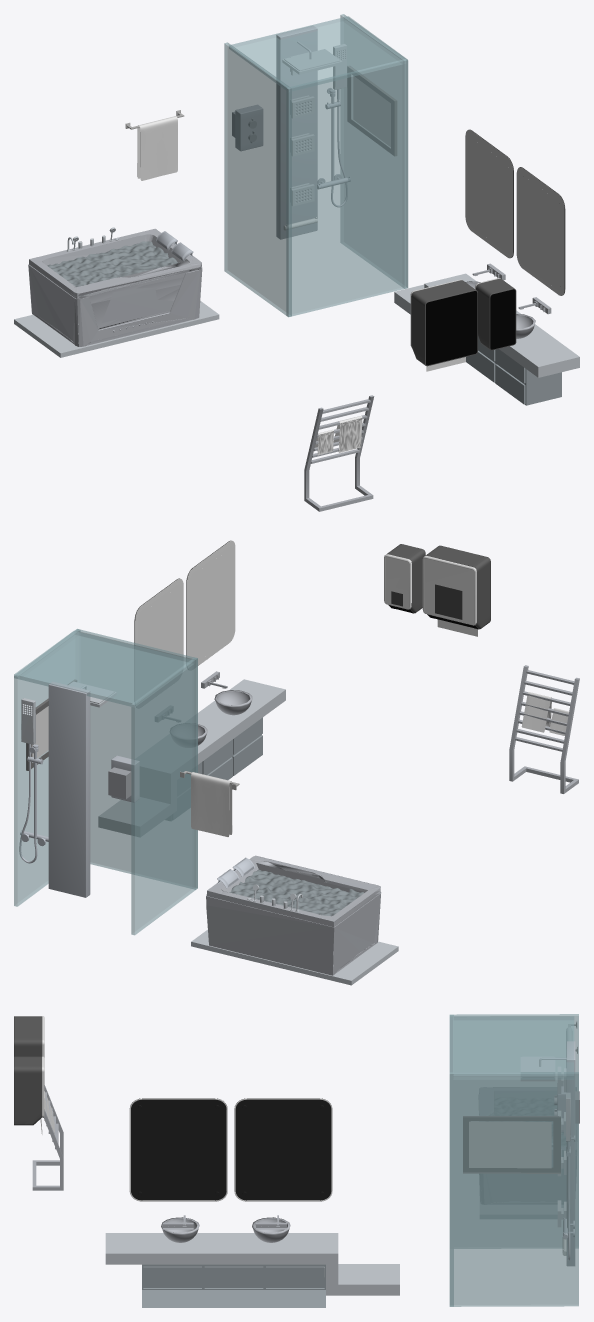
The model's file is basement-bathroom.glb.
The picture shows the model from 3 angles, top to bottom: view 1: azimuth 30°, elevation 25°; view 2: azimuth 150°, elevation 25°; view 3: azimuth 270°, elevation 25°; orthographic projection. The views are drawn at different scales.
Parts seen in each view (by area): view 1: Box164.002, Box165.002, Box166.002, vray.002, Box167.002, Box128.002, 1 PAPEL TOALHA AUTOMATICO.001, Mirror.004, Mirror.003, Object256.002, 3d-model.002, Object239.001 (+11 smaller); view 2: Box164.002, Box165.002, vray.002, Box128.002, Box167.002, 3d-model.002, Box166.002, 1 PAPEL TOALHA AUTOMATICO.001, Mirror.004, Mirror.003, Box168.002, Object256.002 (+13 smaller); view 3: Box166.002, Box165.002, Mirror.003, Mirror.004, 3d-model.002, Object239.001, Box167.002, Object249.002, vray.002, 1SABONETEIRA AUTOMATICA.001, Object248.002, 1 PAPEL TOALHA AUTOMATICO.001 (+10 smaller).
Boxes of the visible parts, x1,y1,x2,y2 form: Box164.002: (286, 59, 407, 316); Box165.002: (224, 42, 291, 316); Box166.002: (340, 14, 408, 288); vray.002: (28, 228, 202, 346); Box167.002: (229, 16, 407, 91); Box128.002: (276, 25, 317, 239); 1 PAPEL TOALHA AUTOMATICO.001: (410, 279, 477, 371); Mirror.004: (516, 167, 565, 295); Mirror.003: (465, 129, 513, 258); Object256.002: (47, 241, 179, 296); 3d-model.002: (394, 273, 579, 377); Object239.001: (466, 336, 561, 405); Box164.002: (75, 629, 197, 889); Box165.002: (131, 657, 197, 935); vray.002: (206, 855, 381, 975); Box128.002: (48, 682, 90, 897); Box167.002: (14, 631, 194, 707); 3d-model.002: (98, 679, 285, 836); Box166.002: (14, 629, 80, 906); 1 PAPEL TOALHA AUTOMATICO.001: (422, 545, 490, 636); Mirror.004: (186, 540, 235, 669); Mirror.003: (134, 578, 183, 707); Box168.002: (509, 665, 579, 793); Object256.002: (229, 869, 363, 915); Box166.002: (449, 1072, 578, 1306); Box165.002: (450, 1014, 578, 1248); Mirror.003: (234, 1098, 332, 1201); Mirror.004: (129, 1098, 227, 1201); 3d-model.002: (105, 1233, 399, 1295); Object239.001: (142, 1264, 325, 1307); Box167.002: (453, 1016, 574, 1079); Object249.002: (469, 1122, 551, 1167); vray.002: (479, 1087, 576, 1204); 1SABONETEIRA AUTOMATICA.001: (14, 1056, 44, 1125); Object248.002: (463, 1116, 560, 1173); 1 PAPEL TOALHA AUTOMATICO.001: (14, 1016, 44, 1057).
Bounding box in the file's own units: 2.1 × 1.38 × 3.
